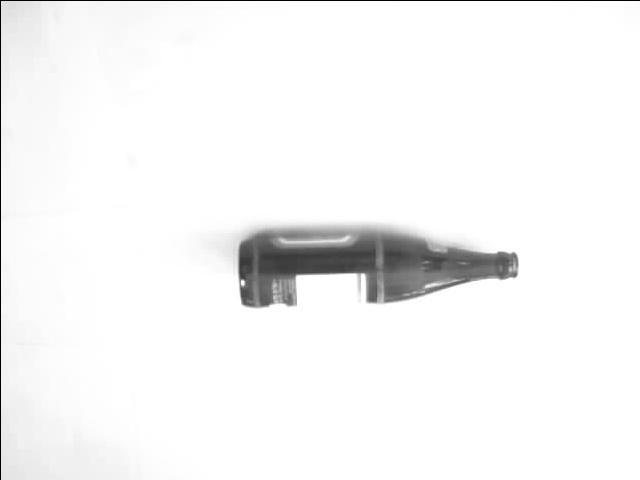Glass: (229, 227, 521, 314)
